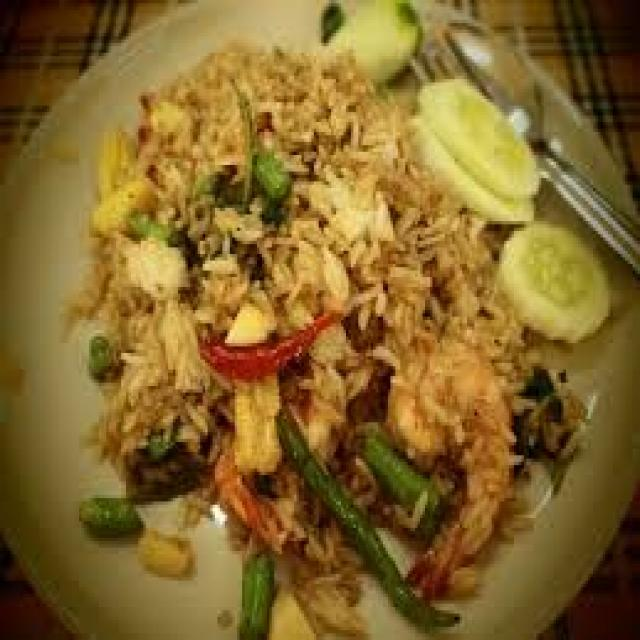organic waste: (57, 33, 497, 501), (232, 366, 586, 637), (279, 403, 462, 630), (403, 112, 531, 231), (497, 221, 610, 340), (418, 80, 538, 192), (200, 303, 331, 373), (321, 0, 420, 89), (358, 426, 438, 534), (228, 363, 274, 465), (237, 541, 272, 637), (136, 521, 195, 571), (270, 580, 322, 636), (79, 495, 138, 538), (247, 145, 287, 205), (44, 129, 82, 168), (87, 333, 111, 376), (319, 0, 346, 30)
